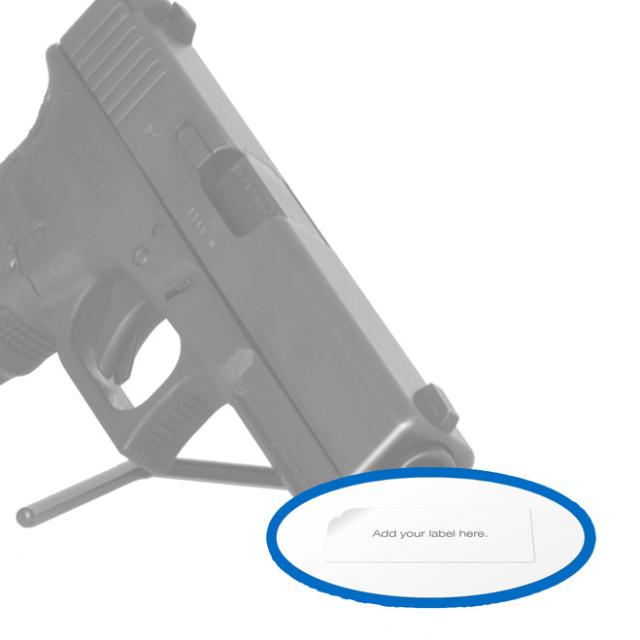HandGun: (0, 0, 476, 495)
